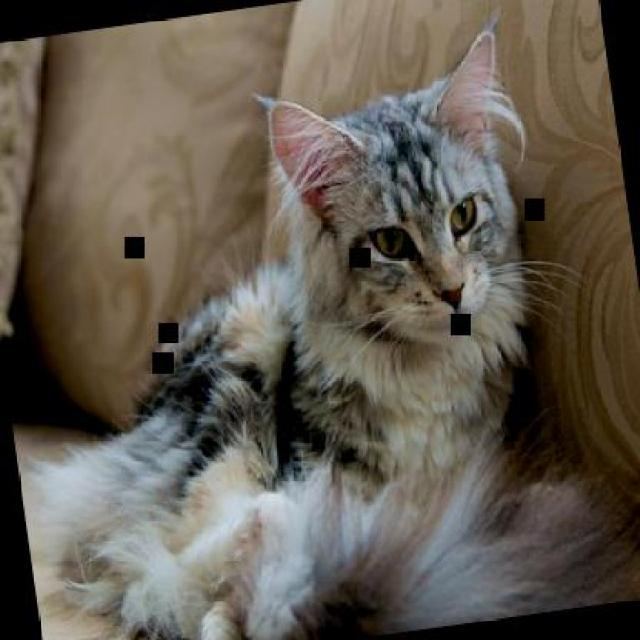cat: (0, 17, 638, 640)
